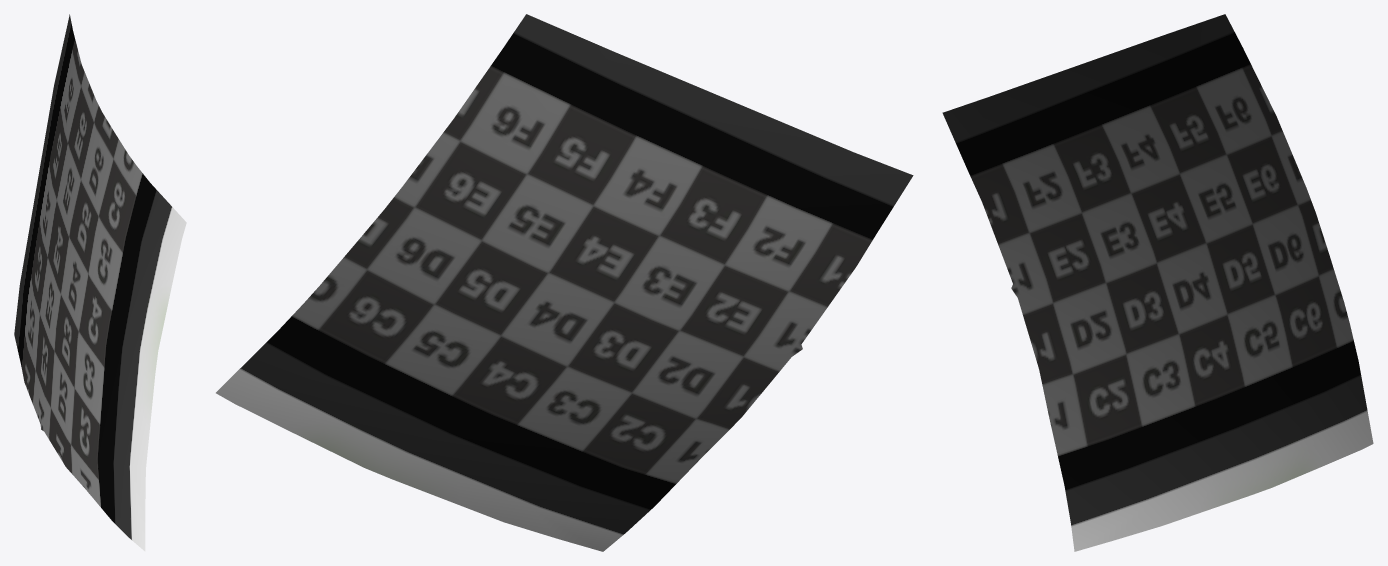
File: status_left.obj
3 views of the same model, side by side, from view 1: azimuth 30°, elevation 25°; view 2: azimuth 150°, elevation 25°; view 3: azimuth 270°, elevation 25° (orthographic). The views are drawn at different scales.
Visible parts, largest first — view 1: status_top_L; view 2: status_top_L; view 3: status_top_L.
Boxes of the visible parts, <box> form: status_top_L: <box>14,14,186,551</box>; status_top_L: <box>216,14,913,551</box>; status_top_L: <box>942,14,1373,551</box>.
Bounding box in the file's own units: 0.0132 × 0.0167 × 0.0122.
1 material, 1 textured.
